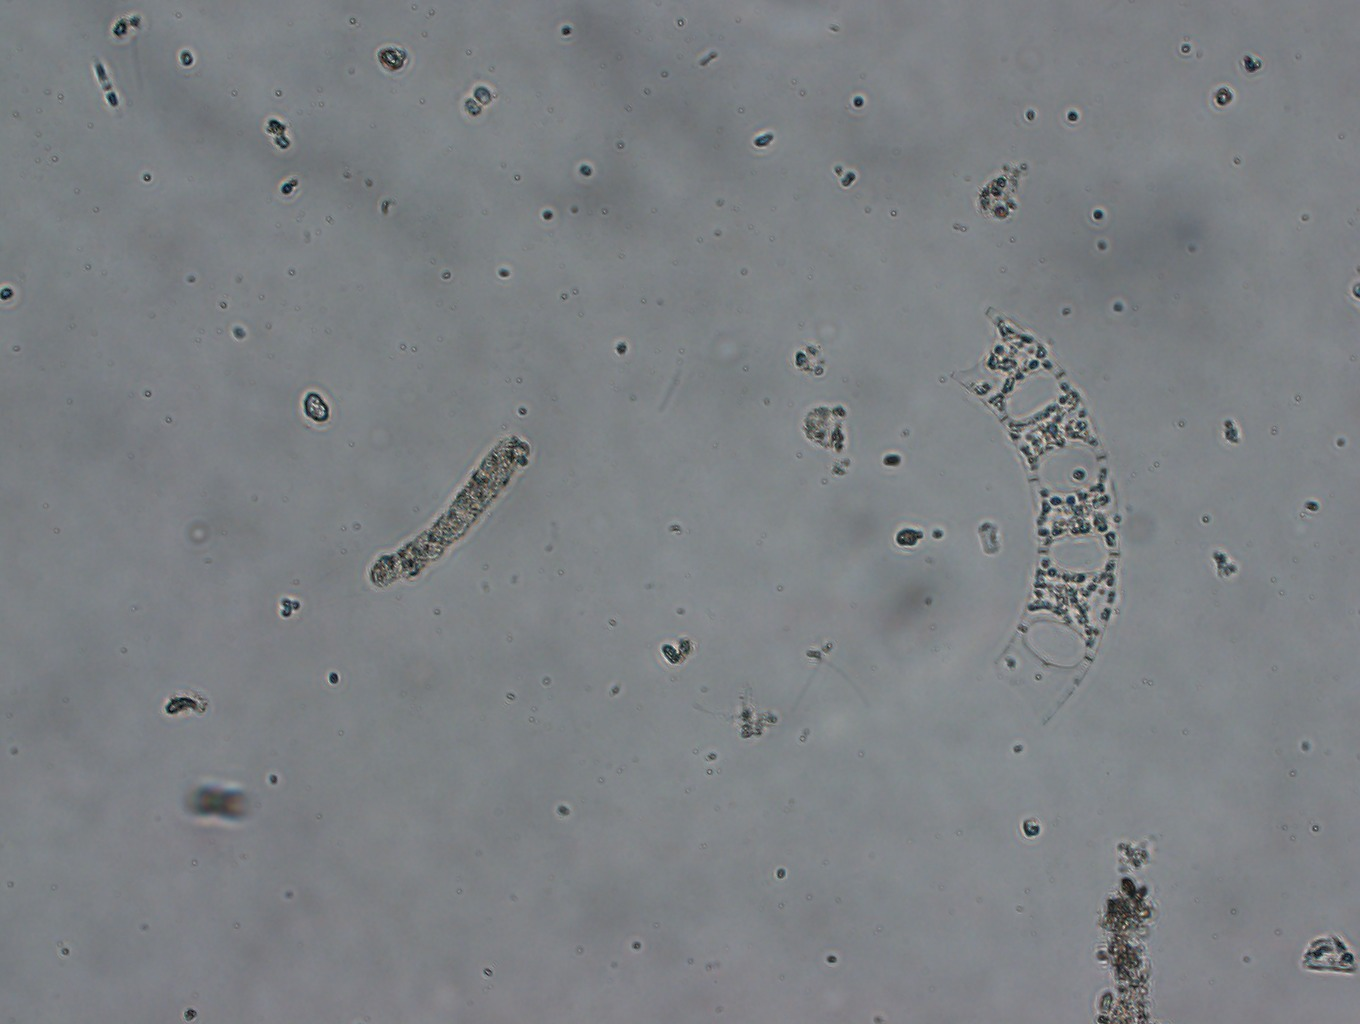eucampia: (950, 316, 1131, 749)
